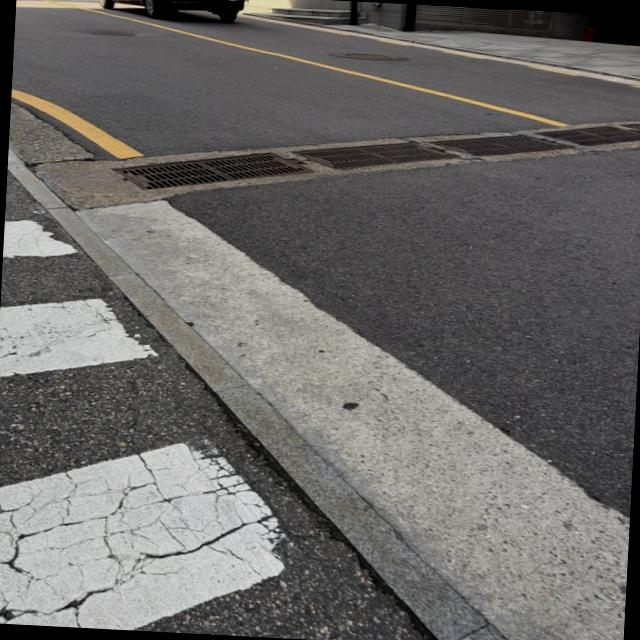drain_area: (118, 154, 310, 191), (292, 143, 453, 171)
drain_full: (116, 154, 311, 191), (291, 143, 455, 172)
